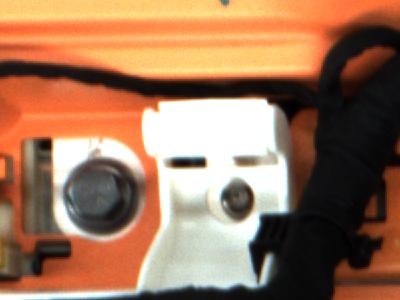nut_b: (62, 162, 140, 237)
